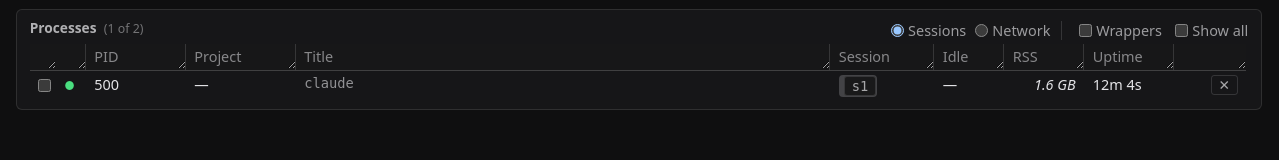
ProcessesPanel › kills every checked row via the kill-selected button, then clears the selection
Click the radio button labelled "Sessions". click: (897,31)
box: [891, 24, 904, 37]
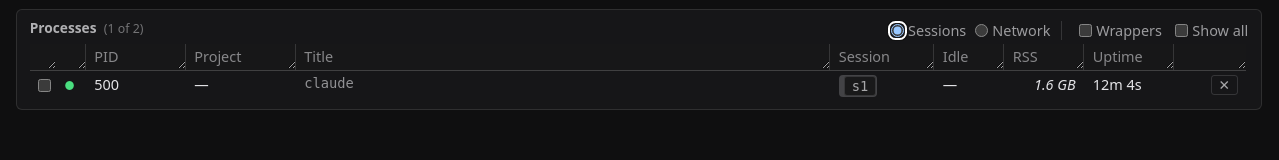
Click the button named "expand". click: (70,85)
box: [64, 78, 75, 93]
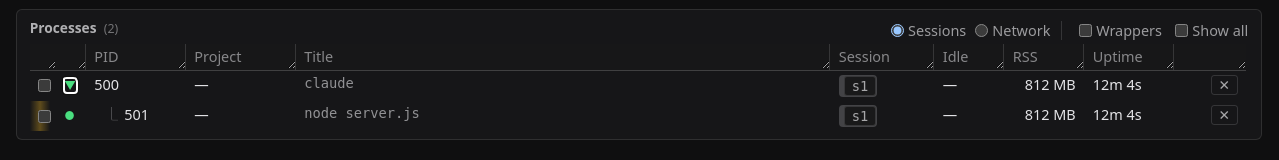
Click the checkbox named "Select PID 500". click: (45,86)
box: [38, 80, 51, 92]
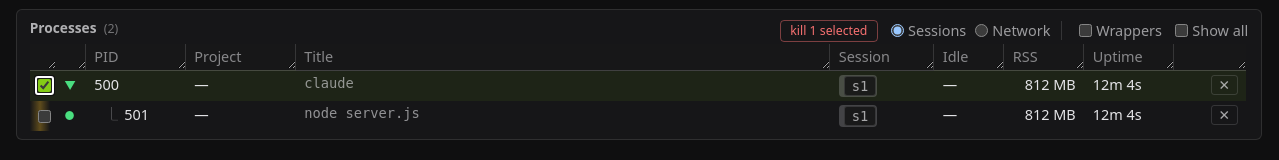
Click the checkbox named "Select PID 501". click: (45,116)
box: [38, 110, 51, 123]
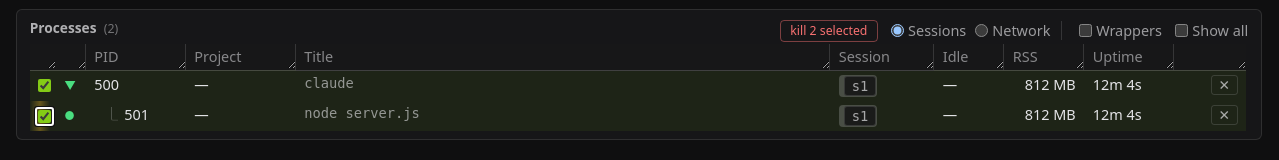
Click the button "kill 2 selected". click: (829,31)
box: [780, 20, 878, 42]
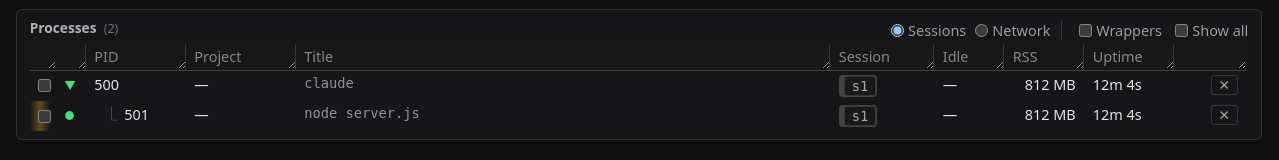
Now the button "kill 2 selected" is gone
